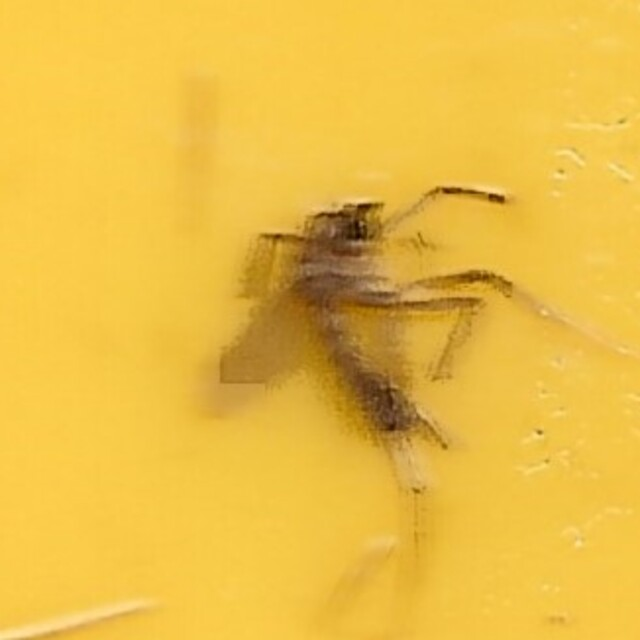Nematocera: (196, 196, 444, 444)
